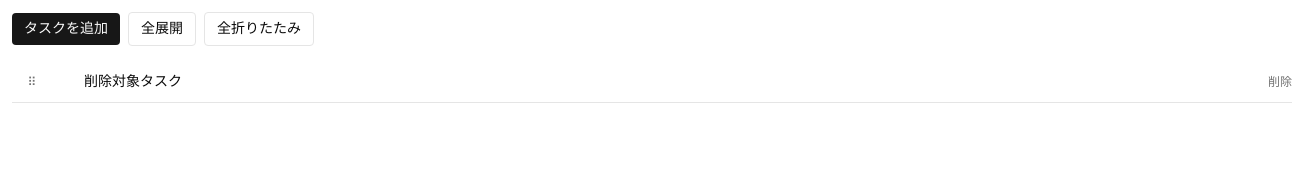
Scenario: TaskTreeTable › タスク削除（AC 3） › TaskTreeTable_削除ボタンをクリックしたとき_正しいURLにDELETEが送られてタスクが一覧から消える
Step 1. Click the button "削除" → x=1280, y=82, box x1=1268 y1=74 x2=1292 y2=90
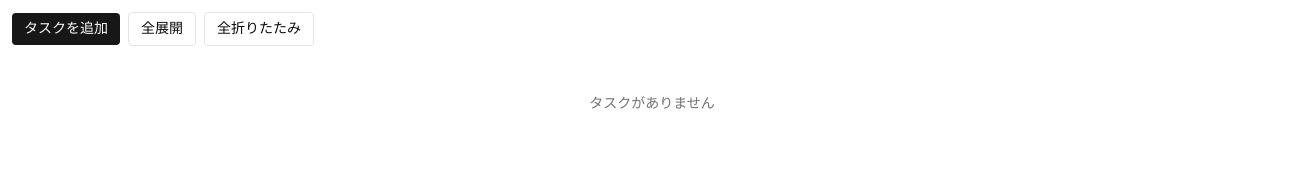
Expected: the text "削除対象タスク" is gone
